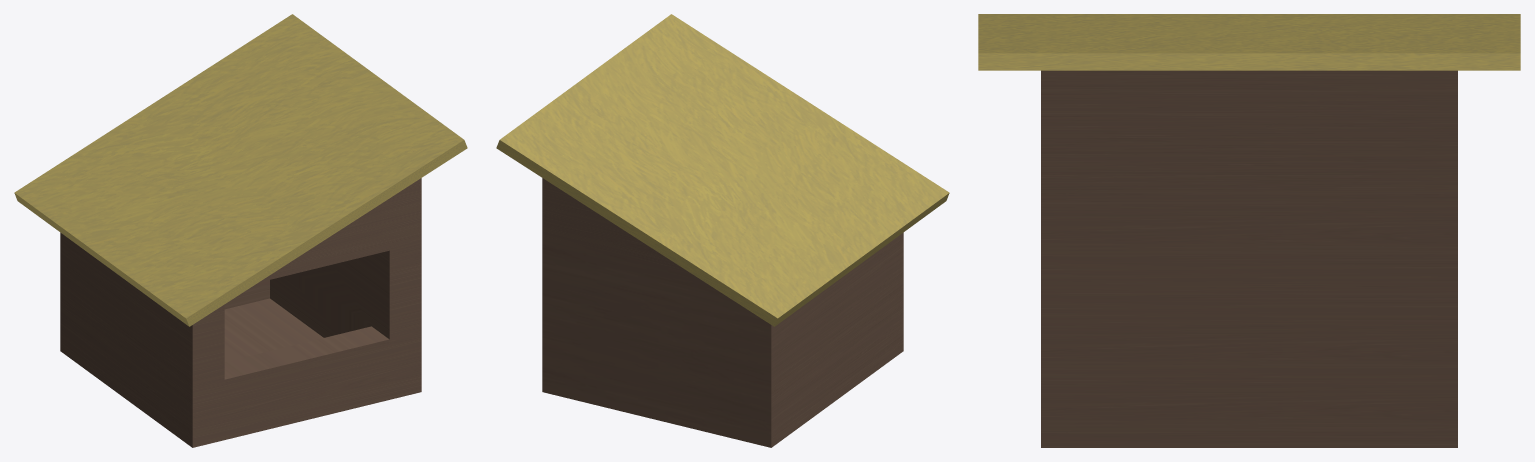
Rendered from kill this house right fucking now.fbx.
3 renders of one model, left to right at view 1: azimuth 30°, elevation 25°; view 2: azimuth 150°, elevation 25°; view 3: azimuth 270°, elevation 25°, orthographic. The views are drawn at different scales.
Visible parts, largest first — view 1: Cube.028; view 2: Cube.028; view 3: Cube.028.
Boxes of the visible parts, box(x1,y1,x2,y2) form: Cube.028: box(14, 14, 467, 447); Cube.028: box(496, 14, 949, 447); Cube.028: box(978, 14, 1520, 447).
Bounding box in the file's own units: 3808 × 3376 × 4026.
